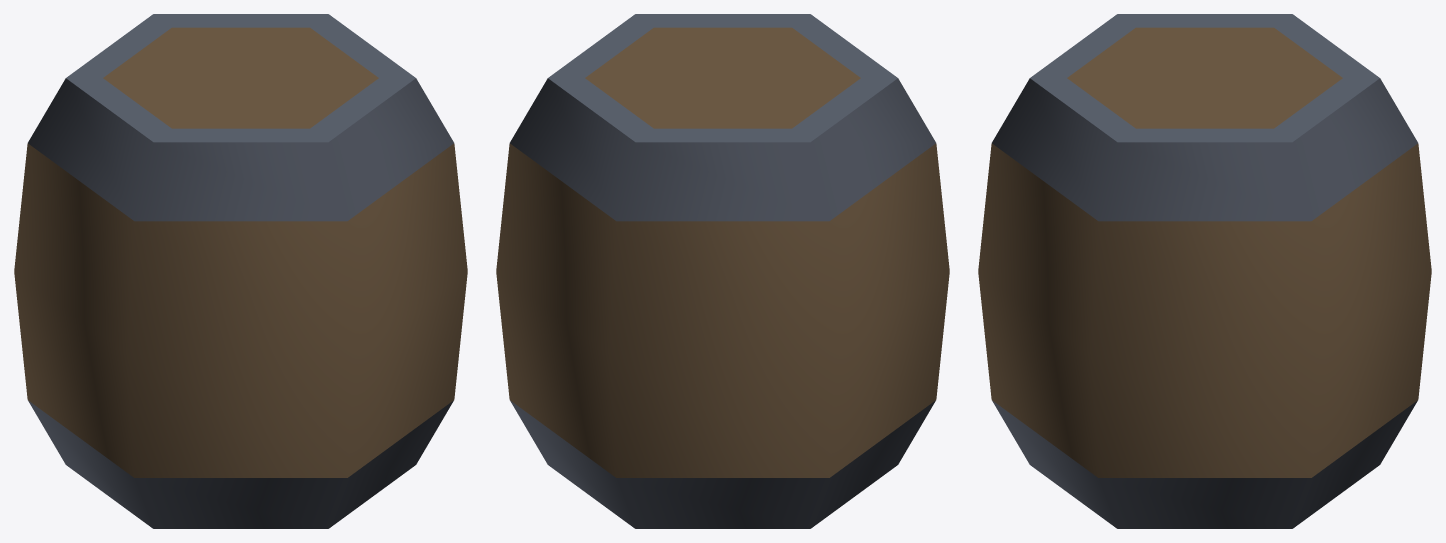
The model's file is Barrel.fbx.
3 renders of one model, left to right at view 1: azimuth 30°, elevation 25°; view 2: azimuth 150°, elevation 25°; view 3: azimuth 270°, elevation 25°, orthographic.
Parts seen in each view (by area): view 1: Barrel; view 2: Barrel; view 3: Barrel.
Part boxes in pixels (left/top/right/bottom): Barrel: left=14, top=14, right=467, bottom=528; Barrel: left=496, top=14, right=949, bottom=528; Barrel: left=978, top=14, right=1431, bottom=528.
Bounding box in the file's own units: 54.88 × 59.61 × 63.37.
